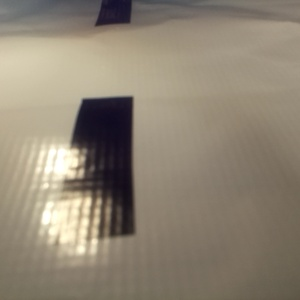bottom_right: (223, 80, 300, 140)
